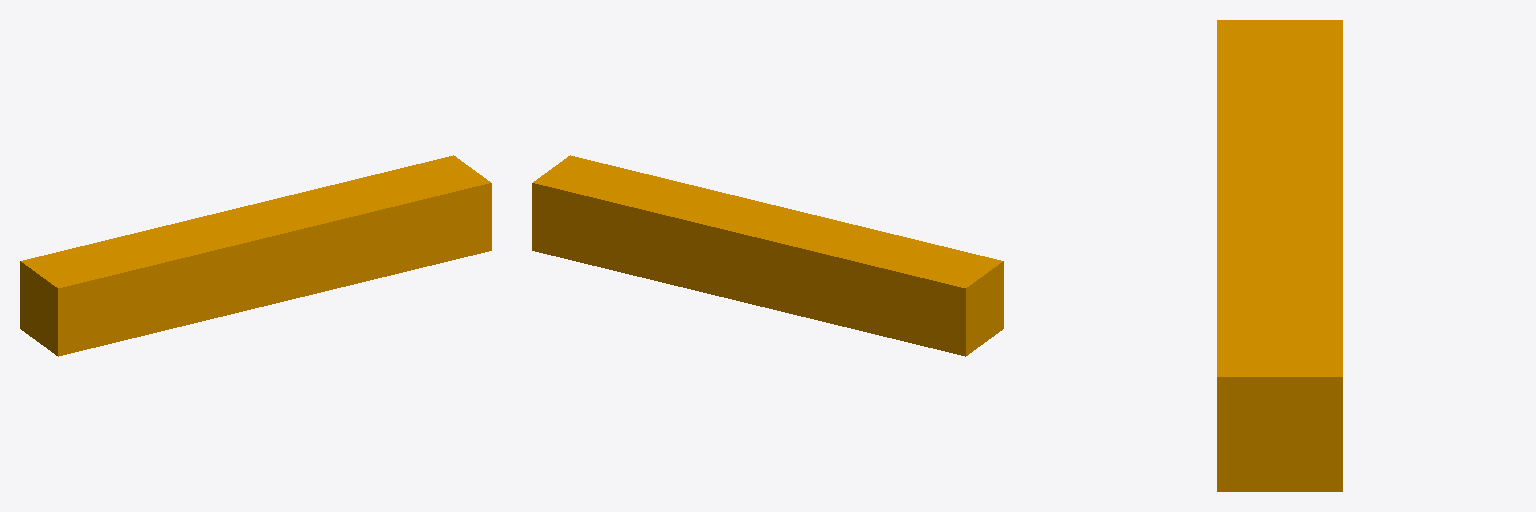
The robot description file, URDF, robot "property_tutorial":
<?xml version="1.0" ?>
<!-- =================================================================================== -->
<!-- |    This document was autogenerated by xacro from property_tutorial.xacro        | -->
<!-- |    EDITING THIS FILE BY HAND IS NOT RECOMMENDED                                 | -->
<!-- =================================================================================== -->
<robot name="property_tutorial">
  <link name="base_link">
    <visual>
      <origin xyz="0 0 0.03"/>
      <geometry>
        <box size="0.4 0.06 0.06"/>
      </geometry>
    </visual>
  </link>
</robot>

--- Render facts (derived) ---
The picture shows the robot from 3 angles, left to right: view 1: azimuth 30°, elevation 25°; view 2: azimuth 150°, elevation 25°; view 3: azimuth 270°, elevation 25°; orthographic projection.
Robot: property_tutorial — 1 links, 0 joints (none); root link base_link; default pose: all joints at 0.
Visible links, largest first — view 1: base_link; view 2: base_link; view 3: base_link.
Boxes of the visible links, x1,y1,x2,y2 form: base_link: [20, 155, 491, 356]; base_link: [532, 155, 1003, 356]; base_link: [1217, 20, 1342, 491].
Bounding box of the posed robot: 0.4 × 0.06 × 0.06 m (x, y, z).
Geometry: primitives only (box / cylinder / sphere), no mesh files.
